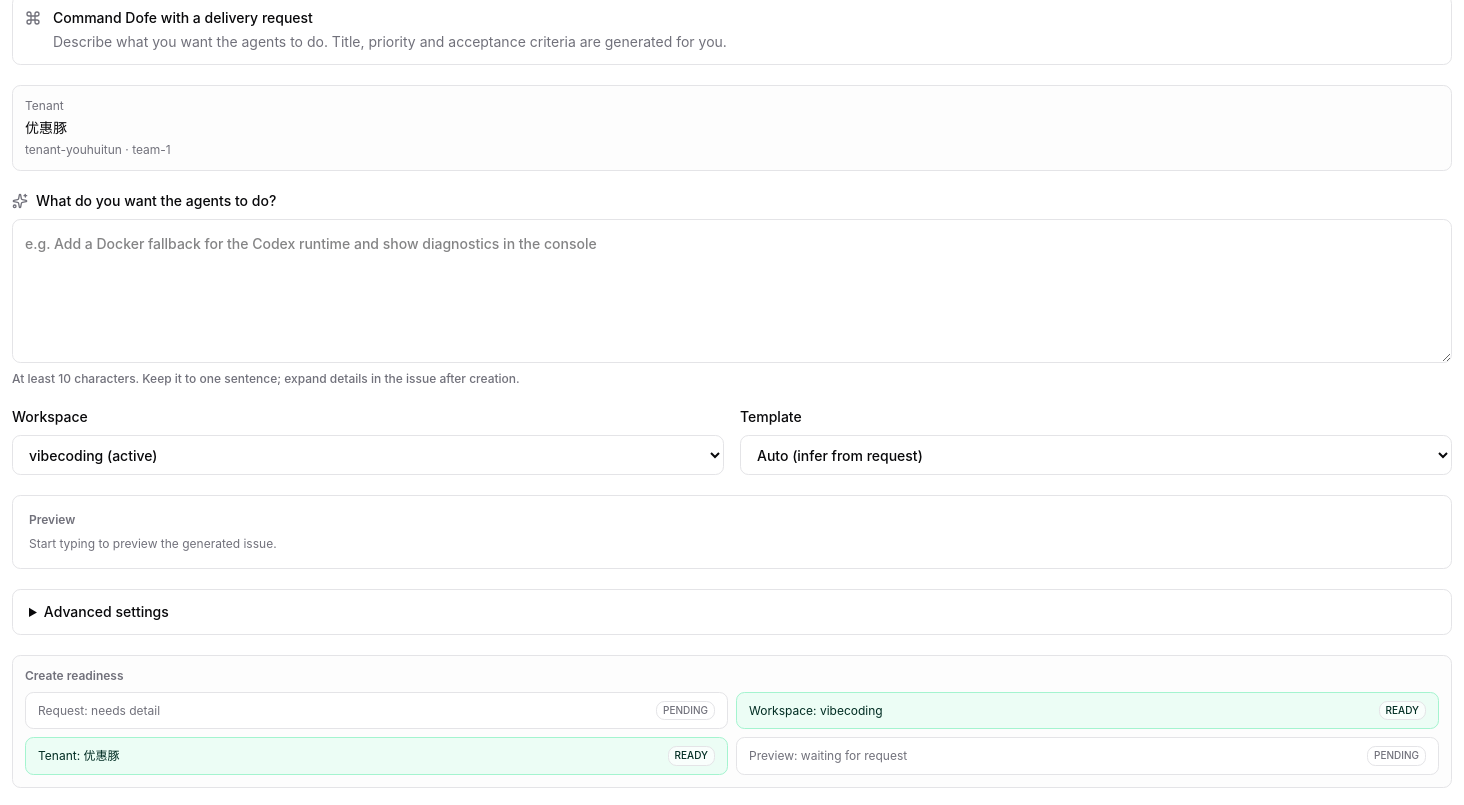
Test: SimpleLoopIssueForm (0622 · B5 simple-mode intake) › keeps submit disabled until the request is at least 10 characters
Type "short" into the text box labelled "What do you want the agents to do?" at x=732, y=291, box left=12, top=219, right=1452, bottom=363
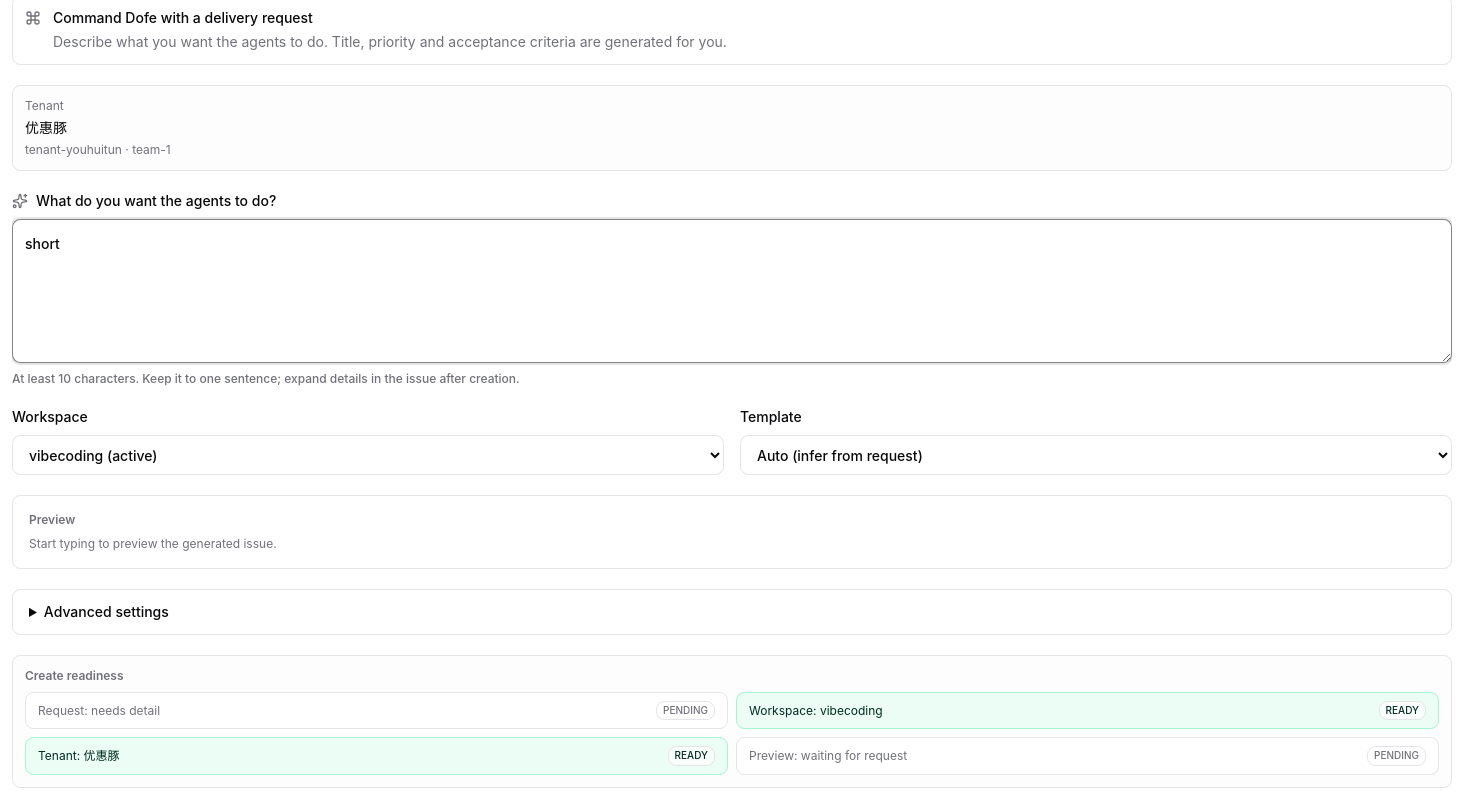
Expected: the text "At least 10 characters. Keep it to one sentence; expand details in the issue after creation." is shown, left=12, top=371, right=520, bottom=386
Type " a slightly longer one" into the text box labelled "What do you want the agents to do?" at x=732, y=291, box left=12, top=219, right=1452, bottom=363
(page scrolled)
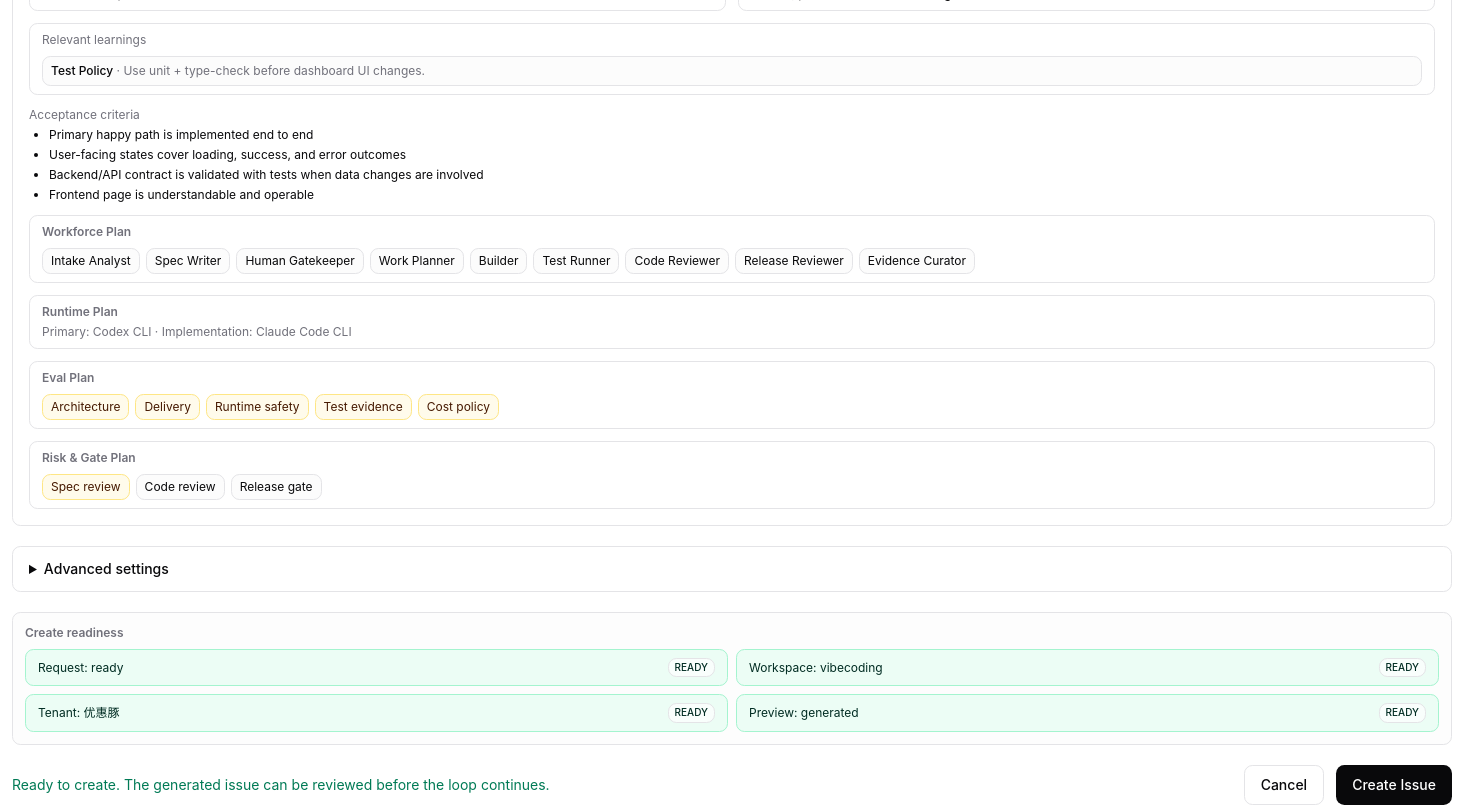
Expected: the button "Create Issue" is enabled, left=1336, top=765, right=1452, bottom=804
Expected: the message reads "Ready to create. The generated issue can be reviewed before the loop continues.", left=12, top=776, right=550, bottom=793
